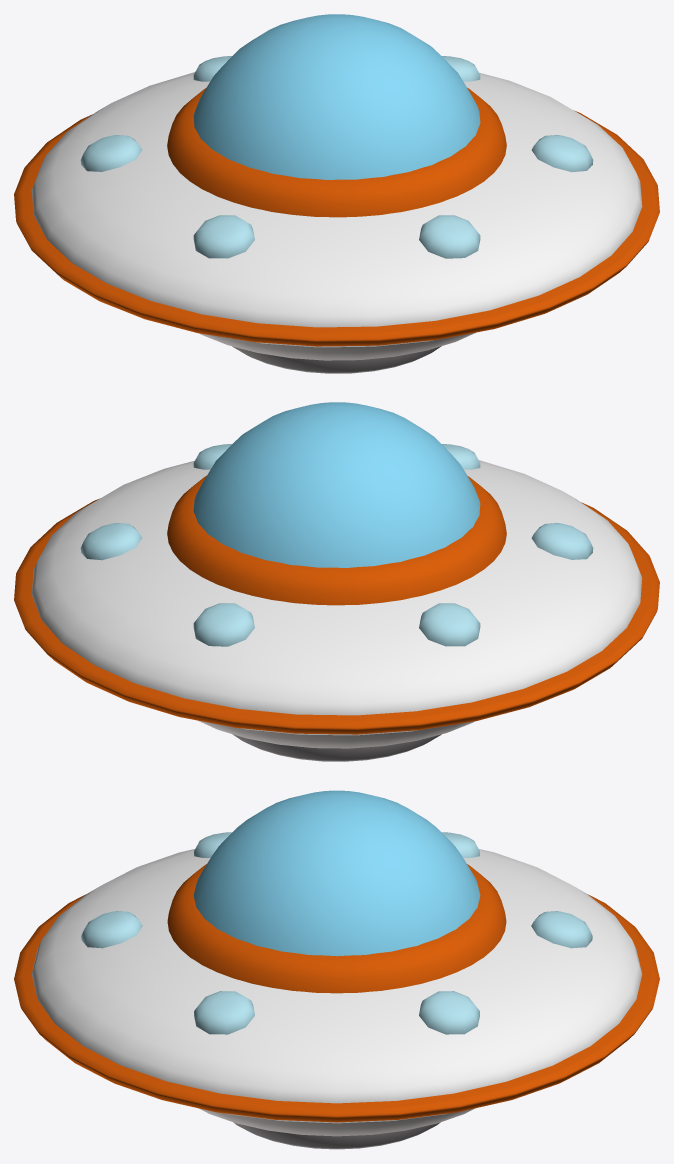
The model's file is UFO.fbx.
The picture shows the model from 3 angles, top to bottom: view 1: azimuth 30°, elevation 25°; view 2: azimuth 150°, elevation 25°; view 3: azimuth 270°, elevation 25°; orthographic projection.
Visible parts, largest first — view 1: Object_4_mesh0, Object_5_mesh0, Object_6_mesh0, Object_8_mesh0, Object_7_mesh0, Object_9_mesh0; view 2: Object_4_mesh0, Object_5_mesh0, Object_6_mesh0, Object_8_mesh0, Object_7_mesh0, Object_9_mesh0; view 3: Object_4_mesh0, Object_5_mesh0, Object_6_mesh0, Object_8_mesh0, Object_7_mesh0, Object_9_mesh0.
Part boxes in pixels (bbox=[...]): Object_4_mesh0: bbox=[31, 72, 642, 347]; Object_5_mesh0: bbox=[193, 14, 480, 179]; Object_6_mesh0: bbox=[14, 87, 659, 346]; Object_8_mesh0: bbox=[80, 56, 593, 258]; Object_7_mesh0: bbox=[199, 332, 475, 360]; Object_9_mesh0: bbox=[232, 346, 441, 373]; Object_4_mesh0: bbox=[31, 460, 642, 735]; Object_5_mesh0: bbox=[193, 402, 480, 567]; Object_6_mesh0: bbox=[14, 475, 659, 734]; Object_8_mesh0: bbox=[80, 444, 593, 646]; Object_7_mesh0: bbox=[198, 720, 474, 748]; Object_9_mesh0: bbox=[232, 734, 441, 761]; Object_4_mesh0: bbox=[31, 849, 642, 1123]; Object_5_mesh0: bbox=[193, 790, 480, 956]; Object_6_mesh0: bbox=[14, 864, 659, 1122]; Object_8_mesh0: bbox=[81, 832, 592, 1034]; Object_7_mesh0: bbox=[199, 1108, 474, 1136]; Object_9_mesh0: bbox=[233, 1122, 440, 1149].
Bounding box in the file's own units: 4211 × 2137 × 4211.
